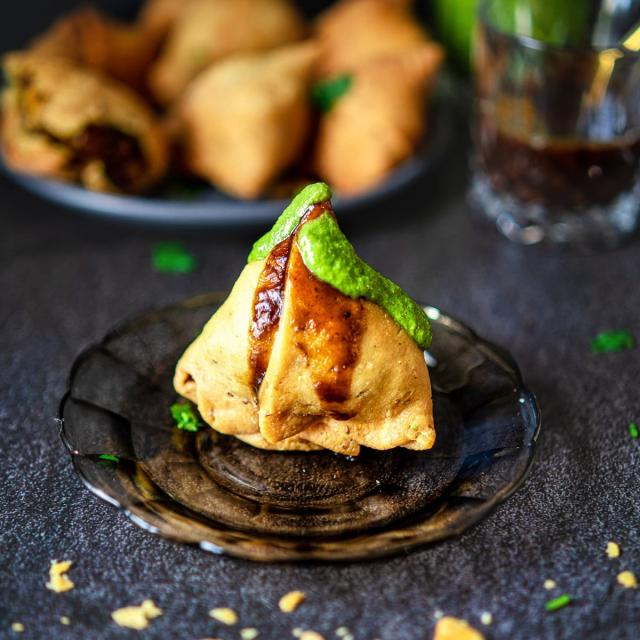SAMOSA: (175, 201, 435, 455)
